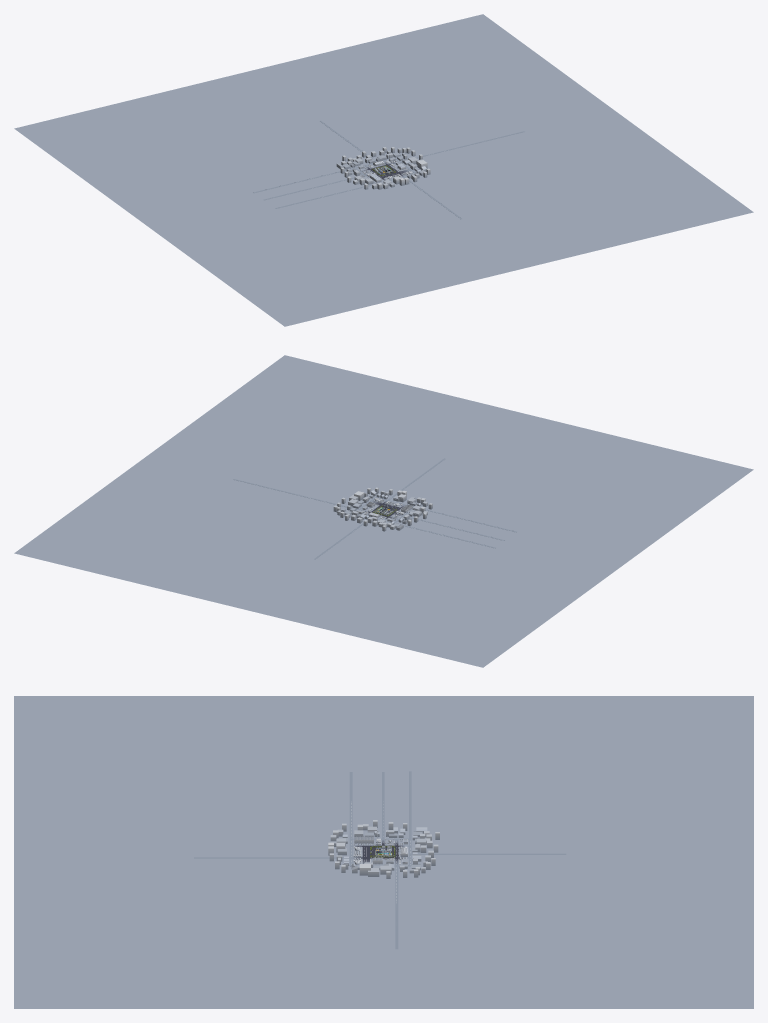
Rendered from scene_delta.glb.
The picture shows the model from 3 angles, top to bottom: view 1: azimuth 30°, elevation 25°; view 2: azimuth 150°, elevation 25°; view 3: azimuth 270°, elevation 25°; orthographic projection. The views are drawn at different scales.
Visible parts, largest first — view 1: Plane, road_cross_intersection.003; view 2: Plane, road_cross_intersection.003; view 3: Plane, road_cross_intersection.003.
Boxes of the visible parts, x1,y1,x2,y2 form: Plane: (14, 14, 753, 326); road_cross_intersection.003: (253, 120, 524, 219); Plane: (14, 355, 753, 667); road_cross_intersection.003: (233, 458, 516, 559); Plane: (14, 696, 753, 1008); road_cross_intersection.003: (194, 771, 566, 949).
Size of the model in its own units: 940 by 14.31 by 940.
18 materials, 16 textured.
